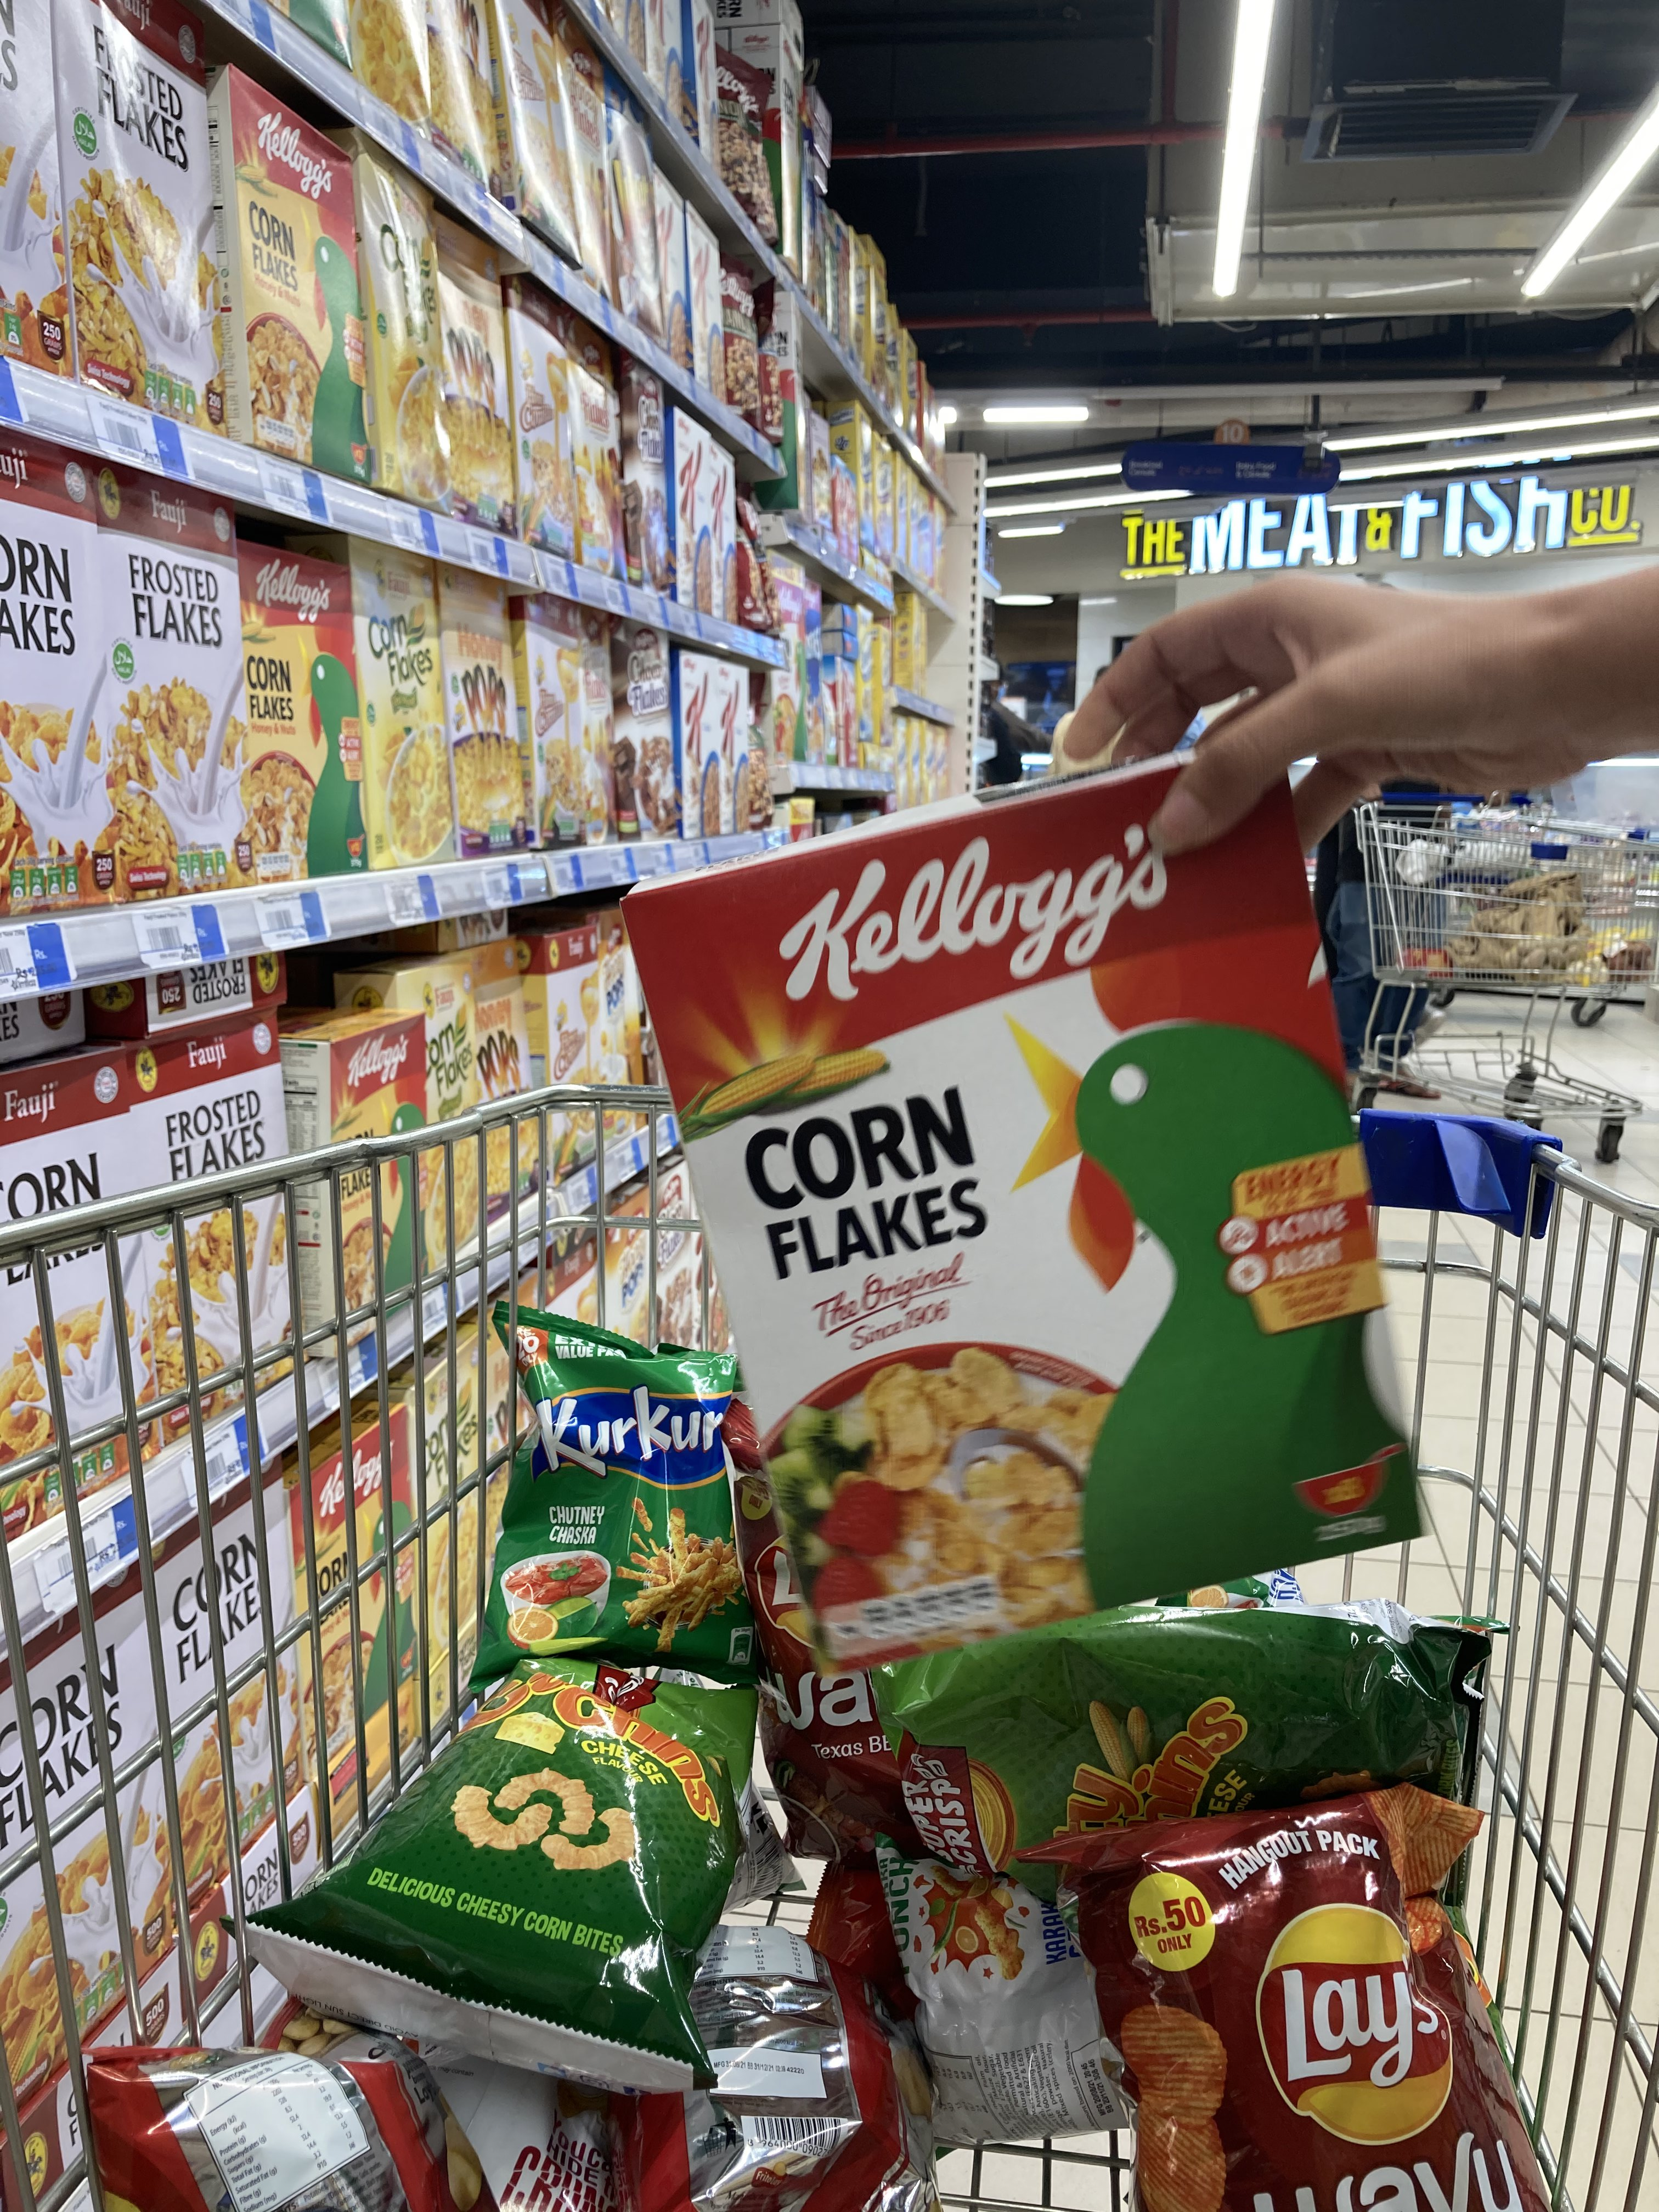Kellogg's Corn Flakes: (629, 770, 1434, 1672)
